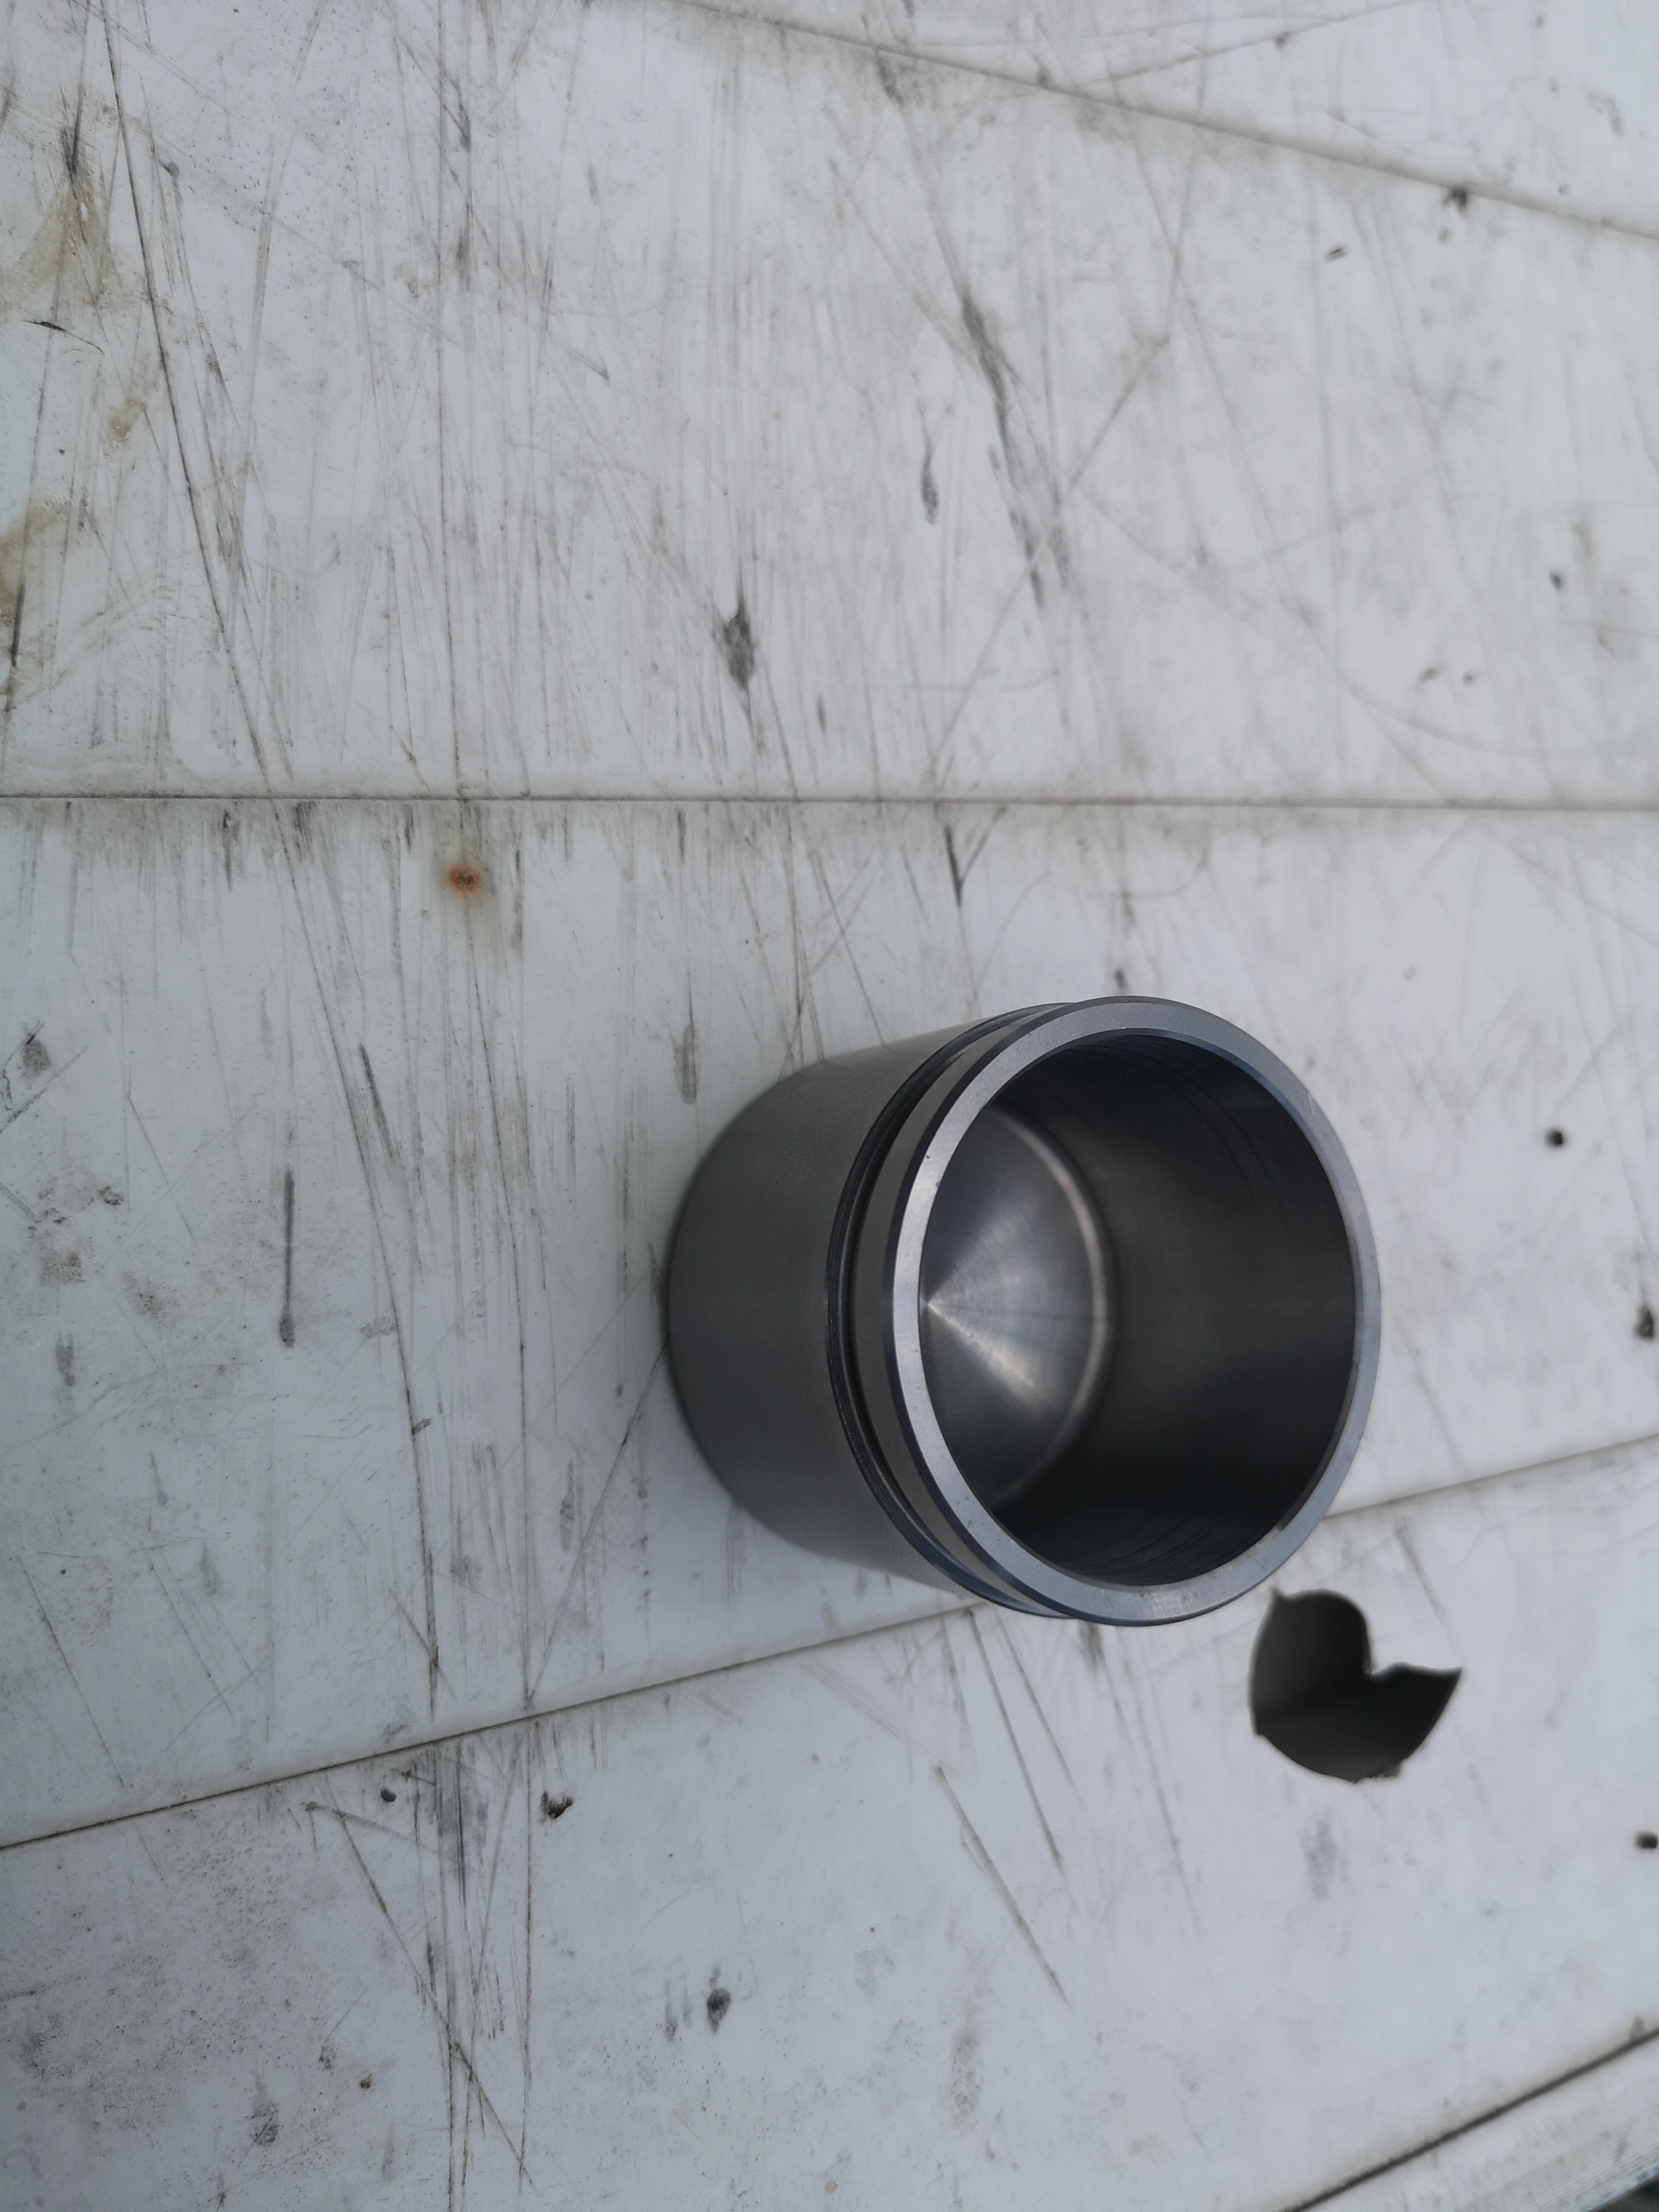ลูกสูบดิสเบรค: (629, 944, 1413, 1726)
